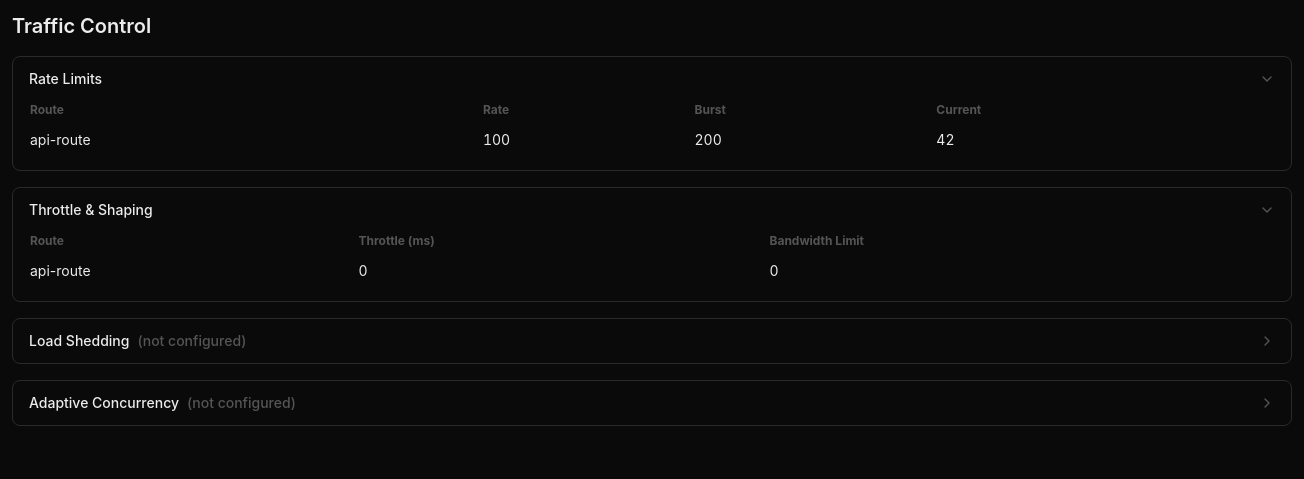
TrafficControlPage › expand/collapse on click
expect the text "Load Shedding" is shown: met, box [29,332,130,349]
Click the button "Load Shedding(not configured)" at (79, 340), box [13,319,1291,363]
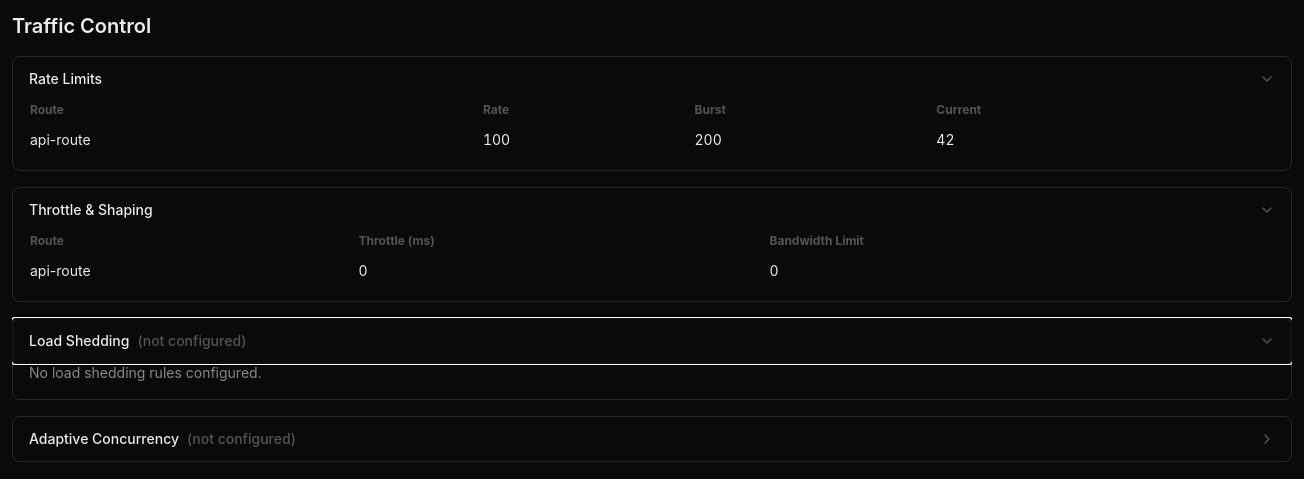
expect the text "No load shedding rules configured." is shown: met, box [29,364,262,381]
